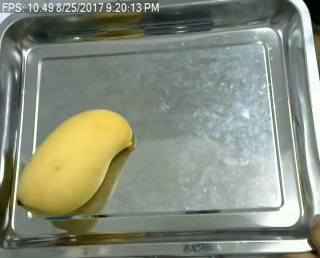Mango: (7, 103, 138, 213)
